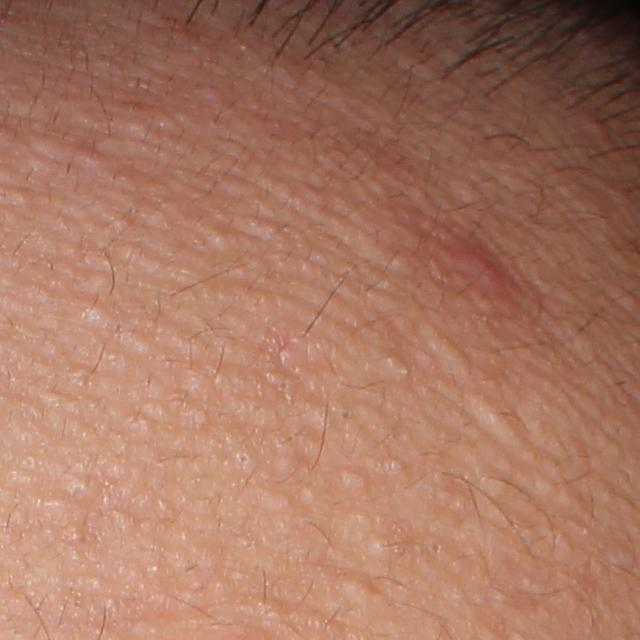comedo: (468, 391, 516, 436), (340, 573, 385, 610), (203, 221, 241, 256), (78, 300, 118, 331), (439, 346, 474, 380), (365, 528, 395, 562), (228, 444, 256, 479), (66, 470, 101, 497), (340, 467, 369, 492), (384, 353, 404, 370)
papule: (454, 243, 508, 288)
